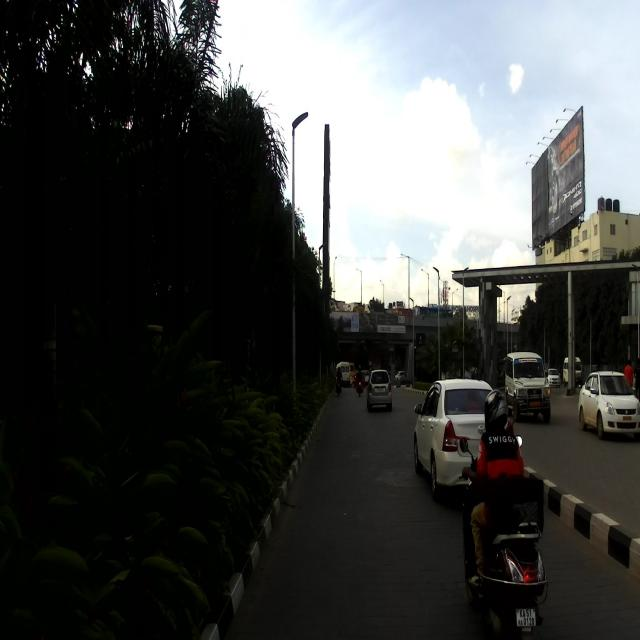car: (412, 377, 511, 500), (577, 368, 638, 440)
scooter: (457, 428, 548, 639)
